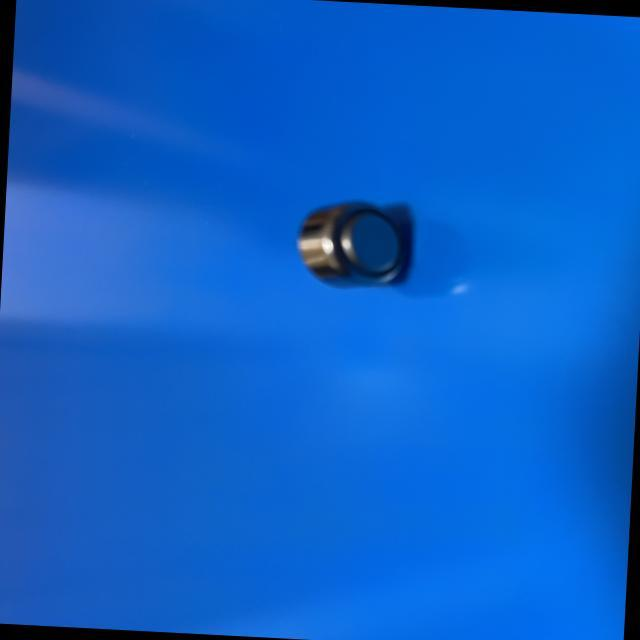COIN: (294, 195, 412, 289)
